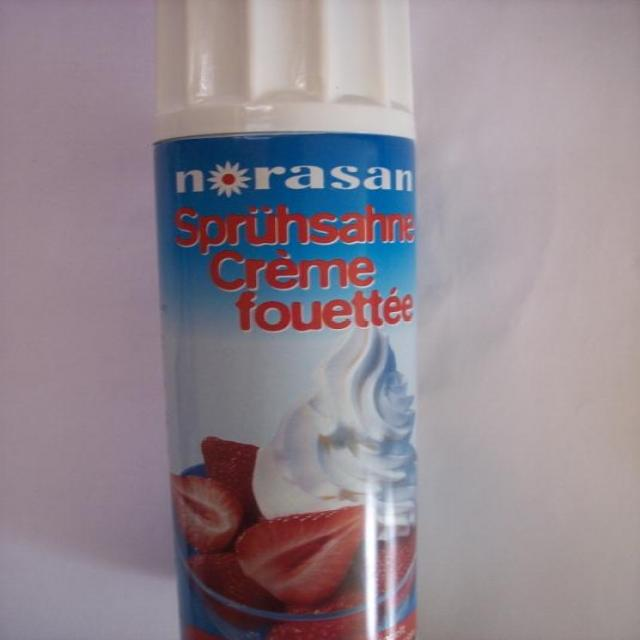cream: (156, 0, 416, 640)
